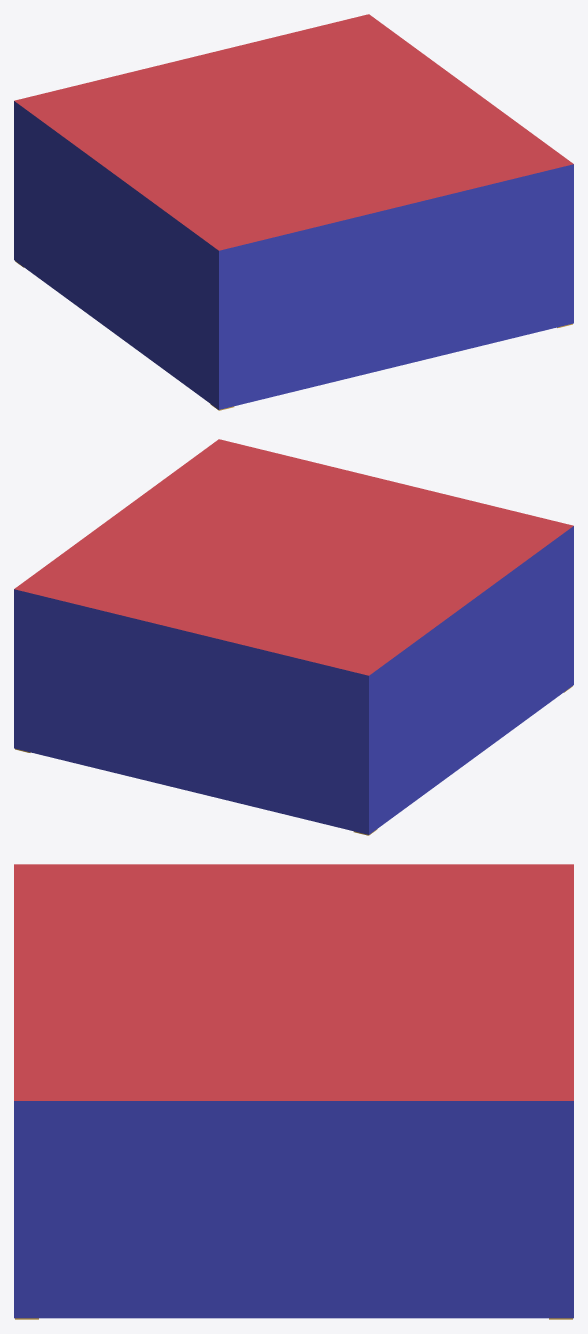
The model's file is room_with_beams.fbx.
The picture shows the model from 3 angles, top to bottom: view 1: azimuth 30°, elevation 25°; view 2: azimuth 150°, elevation 25°; view 3: azimuth 270°, elevation 25°; orthographic projection. The views are drawn at different scales.
Parts seen in each view (by area): view 1: Room; view 2: Room; view 3: Room.
Boxes of the visible parts, left/top/right/bottom form: Room: left=14, top=14, right=573, bottom=409; Room: left=14, top=439, right=573, bottom=834; Room: left=14, top=864, right=573, bottom=1318.
Size of the model in its own units: 1400 by 605 by 1400.
